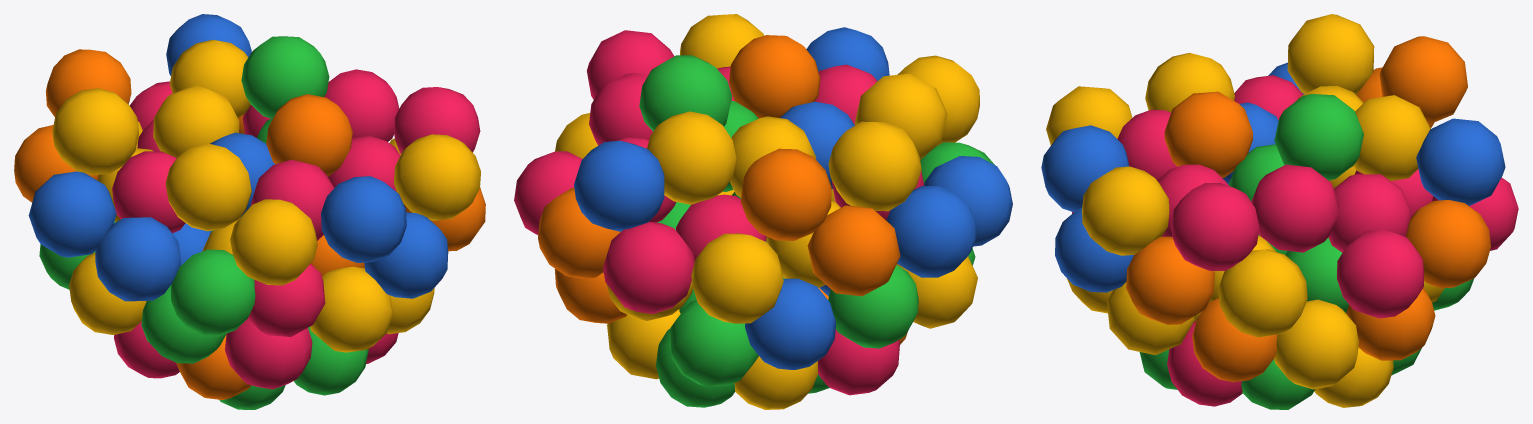
The model's file is candy_vending_machine_002.glb.
3 views of the same model, side by side, from view 1: azimuth 30°, elevation 25°; view 2: azimuth 150°, elevation 25°; view 3: azimuth 270°, elevation 25° (orthographic). The views are drawn at different scales.
Parts seen in each view (by area): view 1: candy_vending_machine_002; view 2: candy_vending_machine_002; view 3: candy_vending_machine_002.
Part boxes in pixels (bbox=[...]): candy_vending_machine_002: bbox=[14, 14, 485, 409]; candy_vending_machine_002: bbox=[514, 14, 1012, 409]; candy_vending_machine_002: bbox=[1041, 14, 1518, 409].
Size of the model in its own units: 17.43 by 13.15 by 17.34.
1 material, 1 textured.
